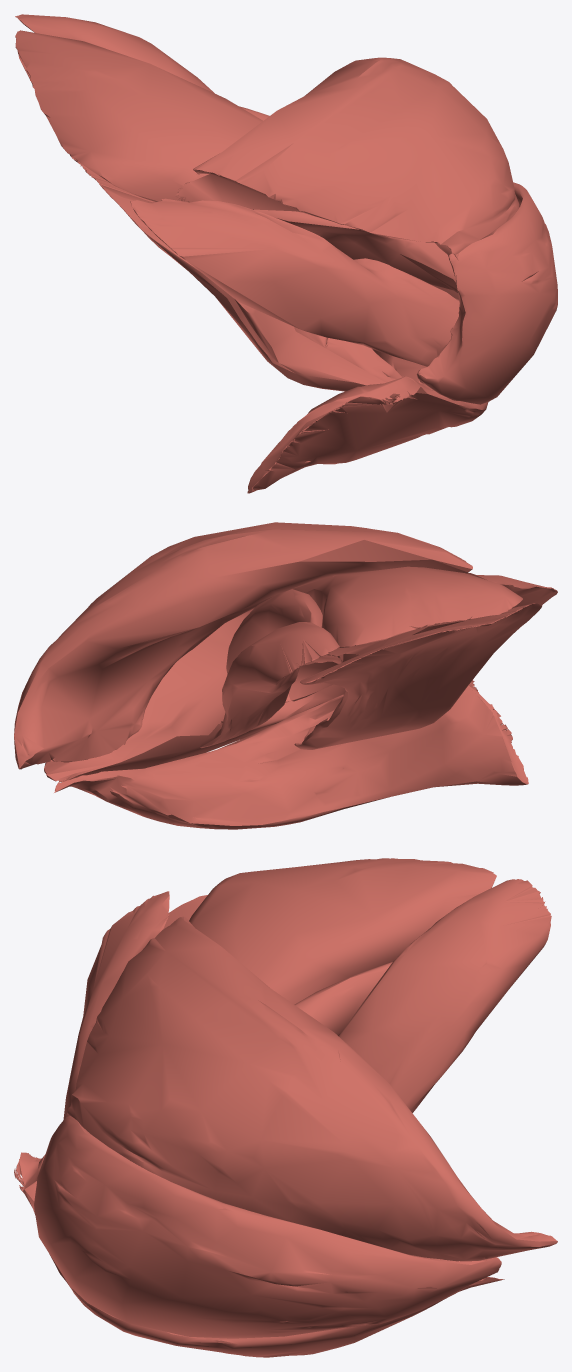
File: shoulderm.glb
3 renders of one model, top to bottom at view 1: azimuth 30°, elevation 25°; view 2: azimuth 150°, elevation 25°; view 3: azimuth 270°, elevation 25°, orthographic. The views are drawn at different scales.
Visible parts, largest first — view 1: spinal part of left deltoid, left infraspinatus muscle, left supraspinatus, acromial part of left deltoid, clavicular part of left deltoid, left subscapularis, left teres major; view 2: spinal part of left deltoid, clavicular part of left deltoid, left subscapularis, left infraspinatus muscle, acromial part of left deltoid, left teres major, left teres minor, left supraspinatus; view 3: spinal part of left deltoid, acromial part of left deltoid, left infraspinatus muscle, left teres major, clavicular part of left deltoid, left supraspinatus, left teres minor.
Boxes of the visible parts, x1,y1,x2,y2 form: spinal part of left deltoid: [176, 57, 519, 260]; left infraspinatus muscle: [15, 30, 457, 292]; left supraspinatus: [130, 198, 459, 366]; acromial part of left deltoid: [416, 182, 557, 404]; clavicular part of left deltoid: [247, 349, 488, 493]; left subscapularis: [17, 51, 432, 391]; left teres major: [15, 14, 214, 93]; spinal part of left deltoid: [14, 522, 472, 769]; clavicular part of left deltoid: [54, 680, 528, 829]; left subscapularis: [294, 603, 542, 749]; left infraspinatus muscle: [293, 566, 522, 655]; acromial part of left deltoid: [44, 609, 345, 782]; left teres major: [200, 622, 339, 748]; left teres minor: [226, 589, 343, 674]; left supraspinatus: [285, 573, 557, 702]; spinal part of left deltoid: [65, 916, 557, 1261]; acromial part of left deltoid: [34, 1112, 501, 1338]; left infraspinatus muscle: [189, 858, 496, 1004]; left teres major: [338, 879, 551, 1112]; clavicular part of left deltoid: [14, 1152, 504, 1357]; left supraspinatus: [63, 891, 169, 1118]; left teres minor: [294, 962, 392, 1035].
Bounding box in the file's own units: 167 × 125 × 168.
